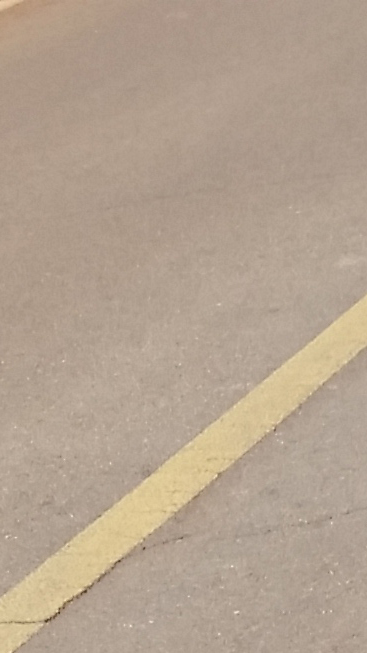A: (5, 476, 367, 634)
